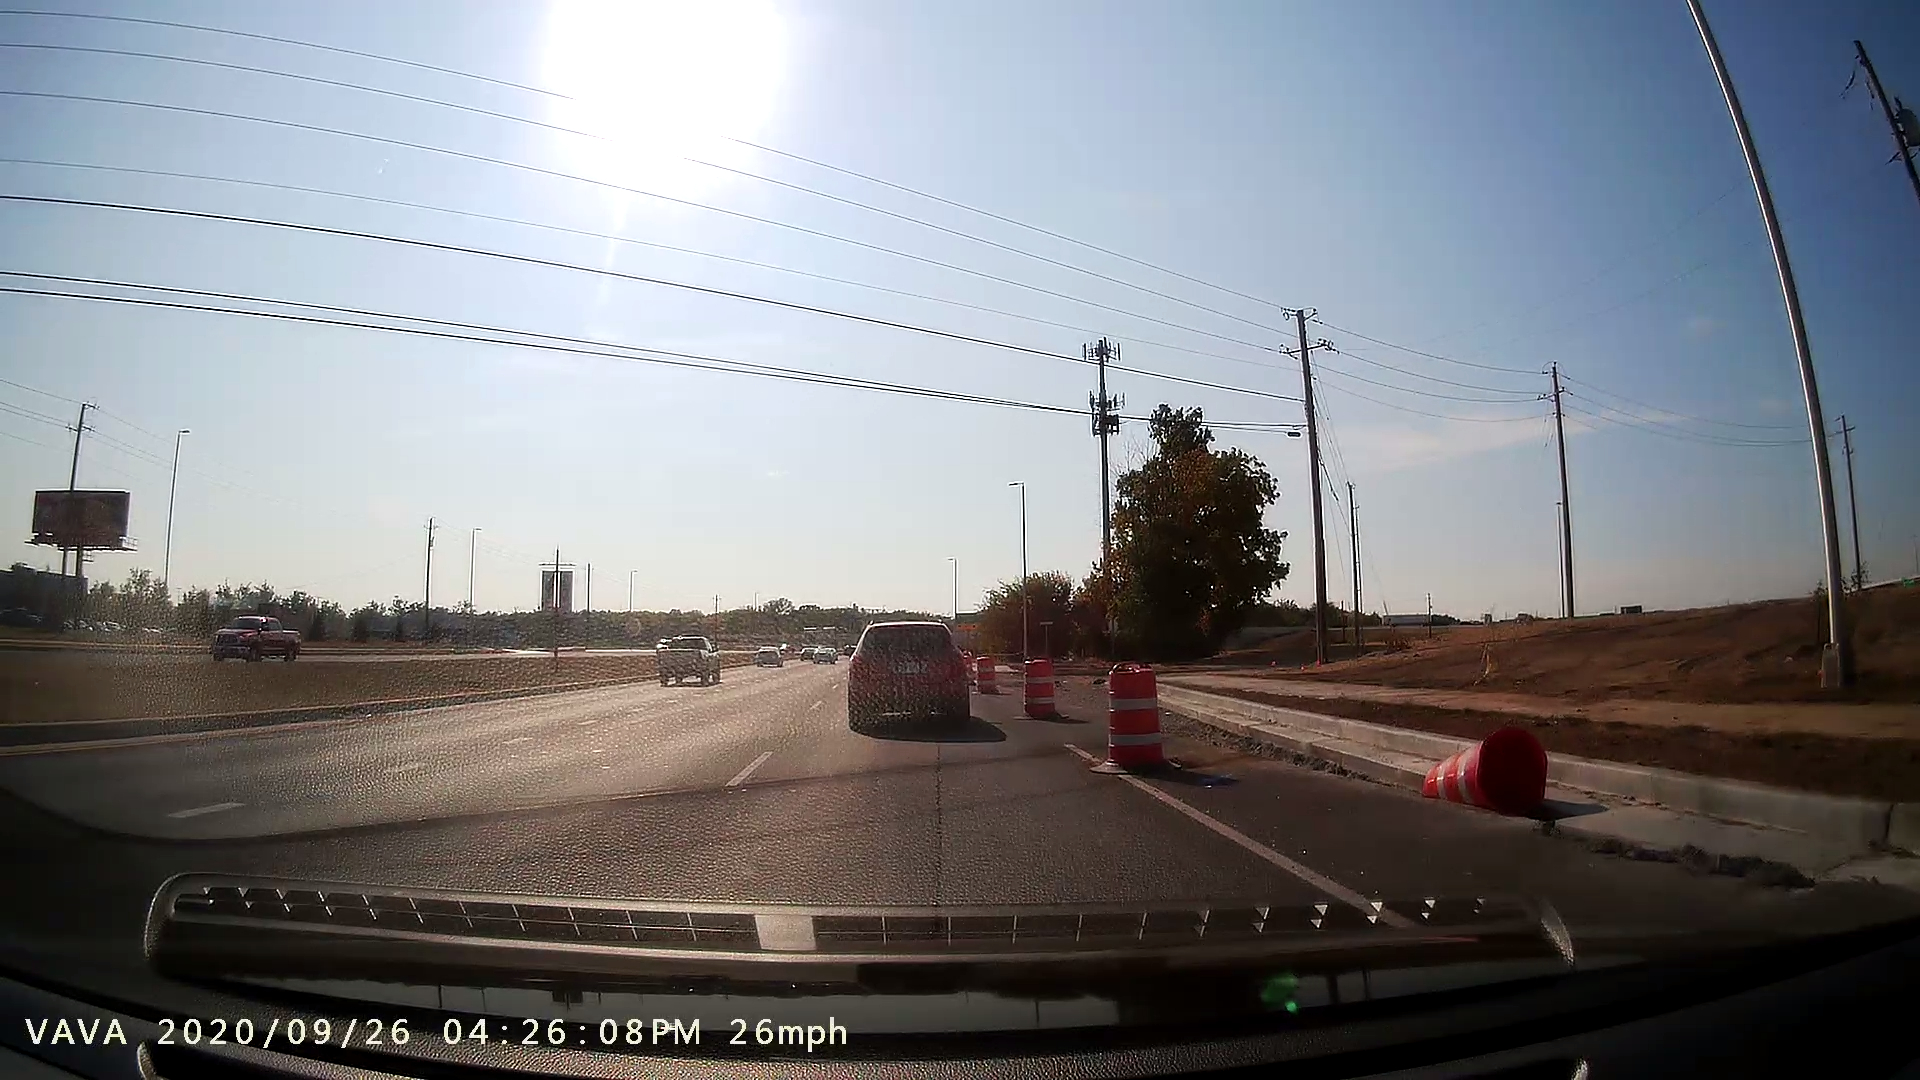const_barrel: (1091, 665, 1197, 787), (1017, 651, 1069, 725)
